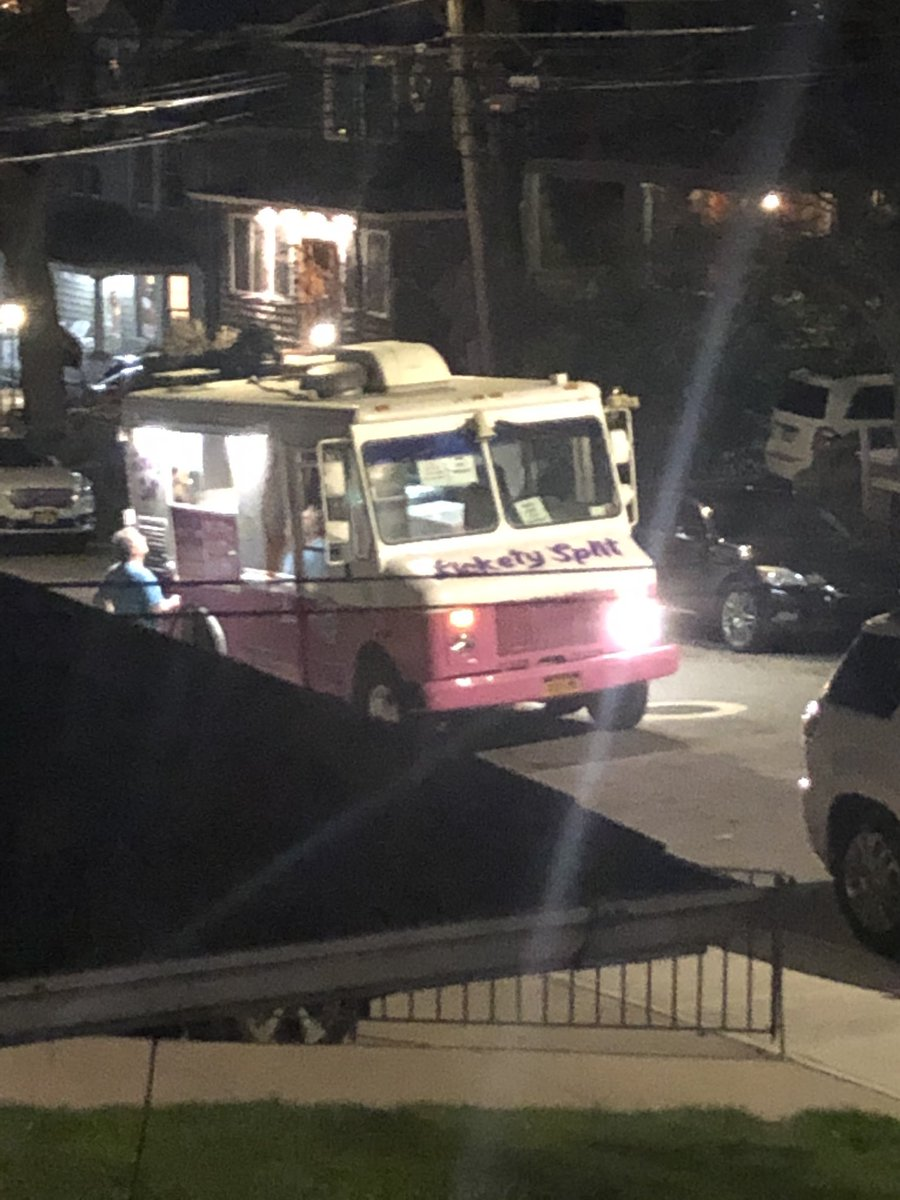building: (520, 114, 896, 346), (207, 147, 461, 359), (1, 220, 188, 389)
car: (646, 481, 900, 653)
van: (105, 373, 673, 725)
